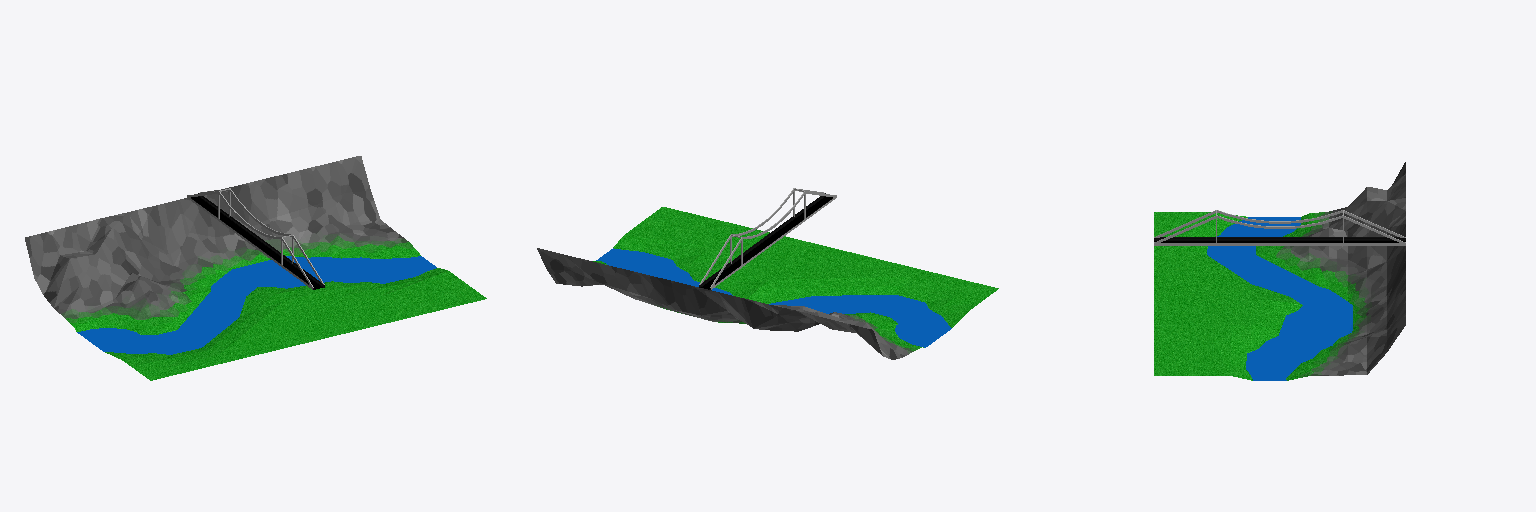
3 views of the same model, side by side, from view 1: azimuth 30°, elevation 25°; view 2: azimuth 150°, elevation 25°; view 3: azimuth 270°, elevation 25° (orthographic).
Visible parts, largest first — view 1: Bridge; view 2: Bridge; view 3: Bridge.
Boxes of the visible parts, <box> form: Bridge: <box>25,156,486,380</box>; Bridge: <box>537,188,998,359</box>; Bridge: <box>1154,162,1405,380</box>.
Size of the model in its own units: 77 by 18.85 by 50.
5 materials, 1 textured.